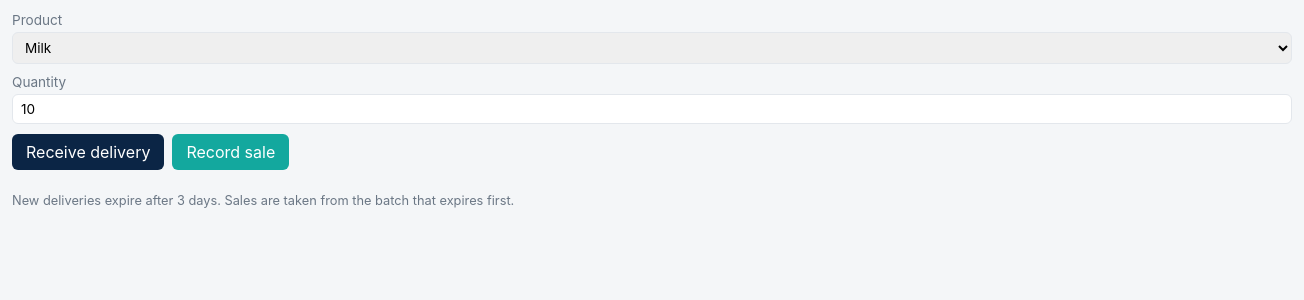
it: QuickActions › shows the API error and does not report success
The width and height of the screenshot is (1304, 300).
Click the button "Record sale".
click(231, 152)  # box x1=172 y1=134 x2=289 y2=170
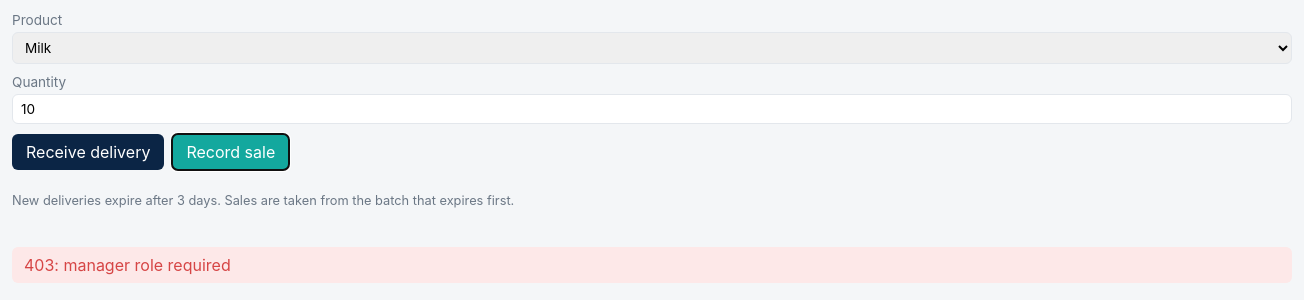
expect the text "403: manager role required" is shown: met, box x1=12 y1=247 x2=1292 y2=283
